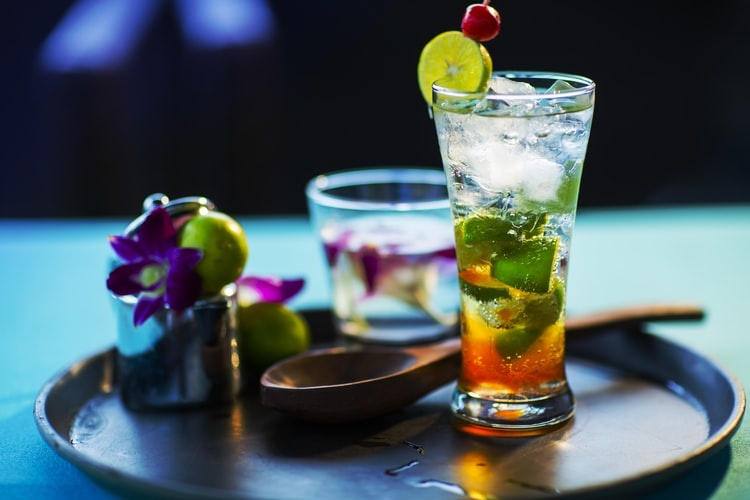whiskey: (446, 69, 598, 435)
